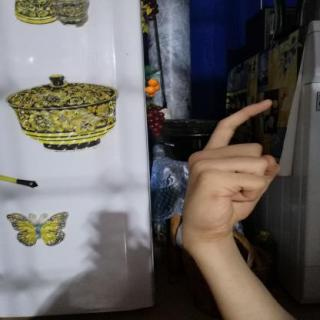RAA: (174, 93, 288, 247)
